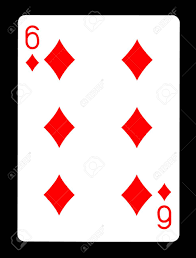six of dimaonds: (16, 14, 177, 241)
